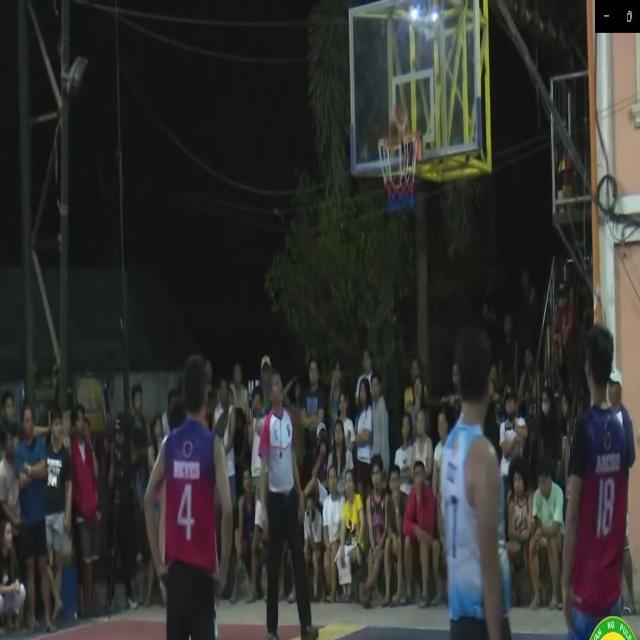basketball: (386, 103, 412, 147)
hoop: (377, 136, 418, 213)
